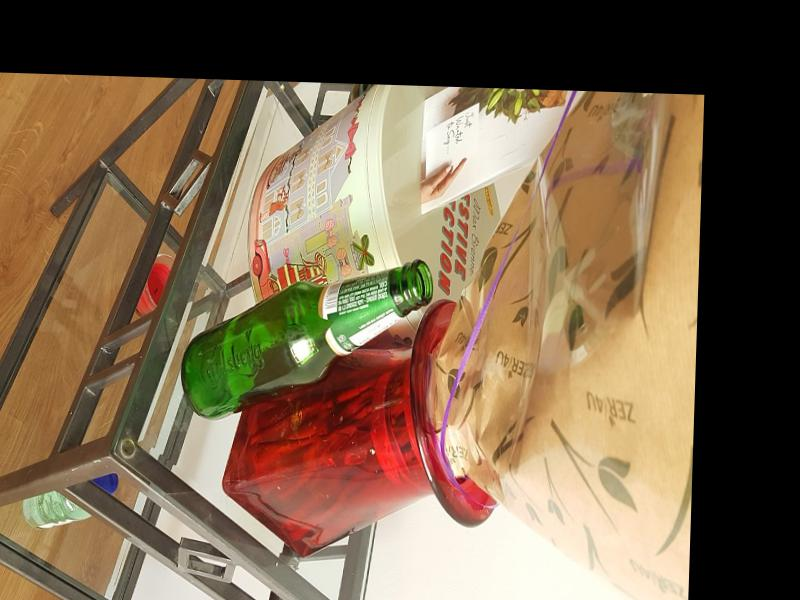Beer: (179, 255, 434, 426)
